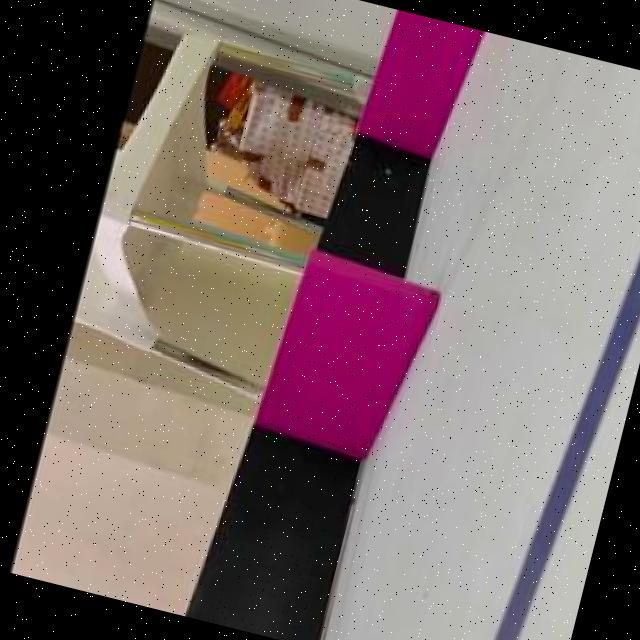xparking: (264, 257, 424, 453), (368, 10, 482, 148)
